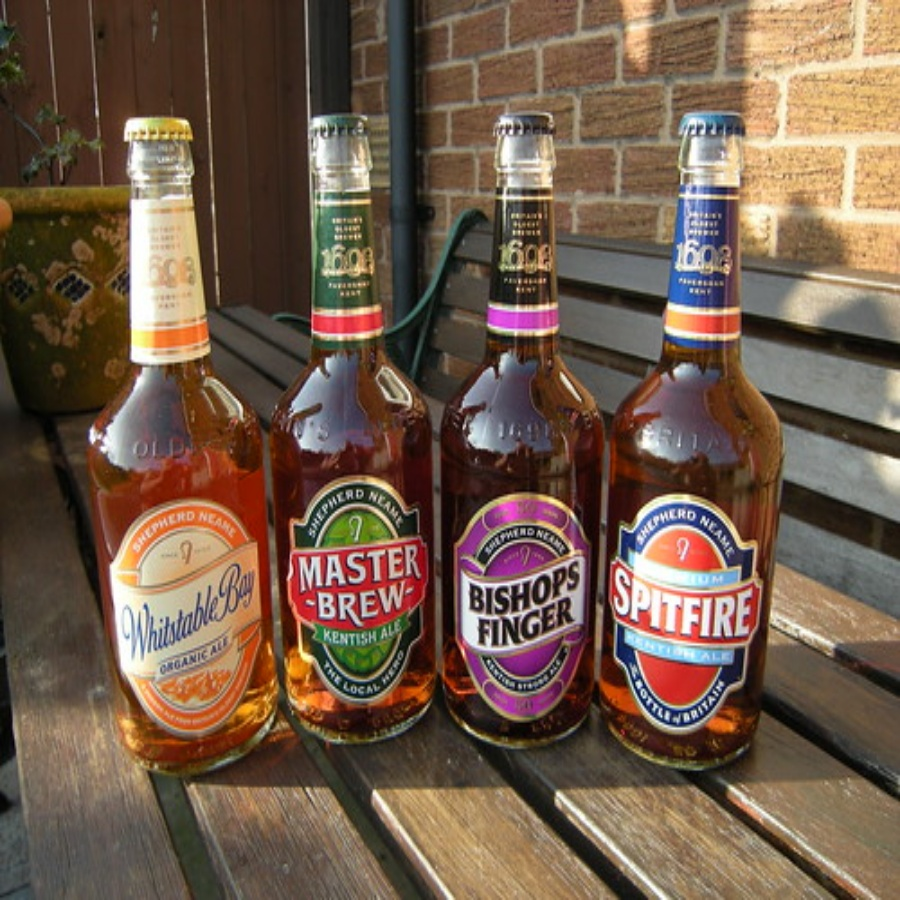beer: (73, 114, 273, 780), (613, 103, 768, 778), (446, 100, 596, 761), (296, 102, 439, 740)
